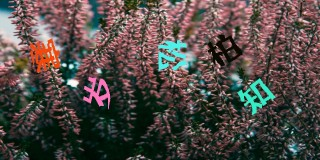寒: (28, 37, 62, 73)
岁: (79, 75, 111, 109)
松: (158, 40, 187, 71)
柏: (205, 33, 243, 67)
知: (237, 77, 276, 115)
